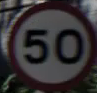Speed limit: (6, 6, 89, 82)
